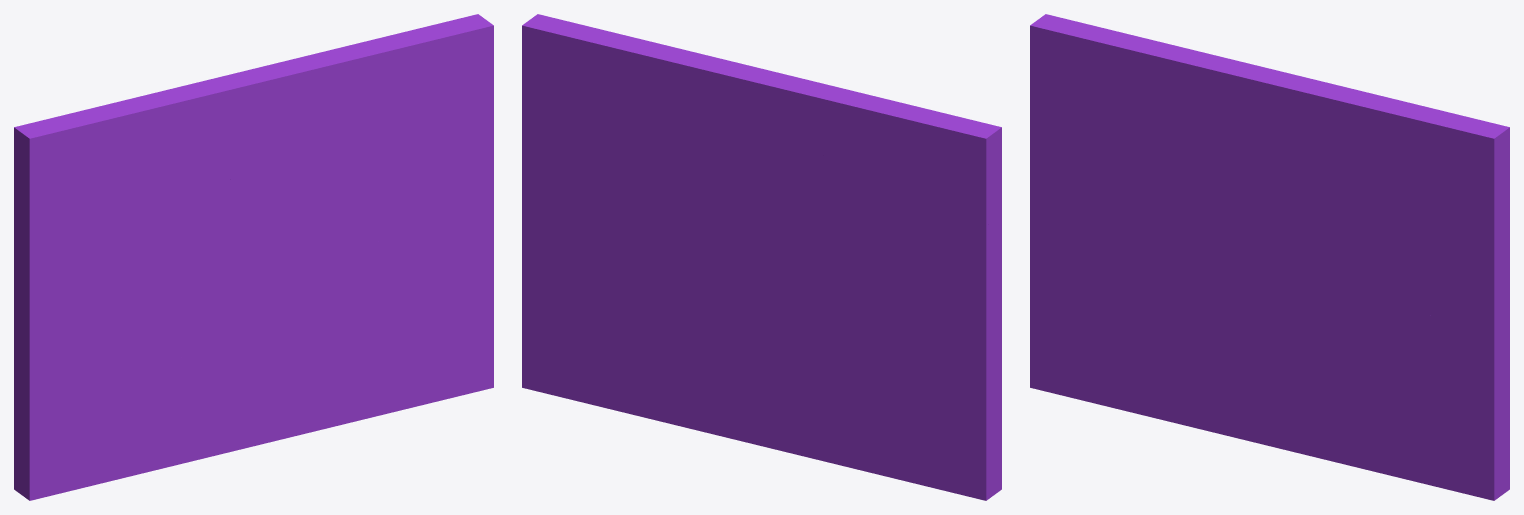
Rendered from Barrier_17_chunks.fbx.
The picture shows the model from 3 angles, left to right: view 1: azimuth 30°, elevation 25°; view 2: azimuth 150°, elevation 25°; view 3: azimuth 330°, elevation 25°; orthographic projection.
Parts seen in each view (by area): view 1: Barrier_17_2, Barrier_17_3, Barrier_17_1, Barrier_17_0; view 2: Barrier_17_0, Barrier_17_3, Barrier_17_1, Barrier_17_2; view 3: Barrier_17_3, Barrier_17_1, Barrier_17_2, Barrier_17_0.
Boxes of the visible parts, <box> form: Barrier_17_2: <box>14,94,271,370</box>; Barrier_17_3: <box>151,14,493,258</box>; Barrier_17_1: <box>132,222,493,475</box>; Barrier_17_0: <box>14,188,199,500</box>; Barrier_17_0: <box>745,181,1001,500</box>; Barrier_17_3: <box>522,14,849,263</box>; Barrier_17_1: <box>522,227,860,470</box>; Barrier_17_2: <box>810,89,1001,357</box>; Barrier_17_3: <box>1182,47,1509,335</box>; Barrier_17_1: <box>1133,264,1509,500</box>; Barrier_17_2: <box>1030,14,1271,325</box>; Barrier_17_0: <box>1030,258,1199,412</box>.
Bounding box in the file's own units: 381 × 284 × 22.39.
